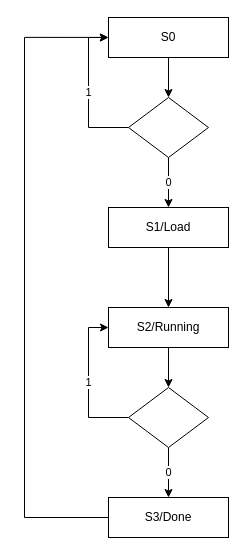
This 246x555 diagram has some shape labels left out. Each missing label, with the centre of its shape:
Finish': [168,417]
Go': [168,127]
